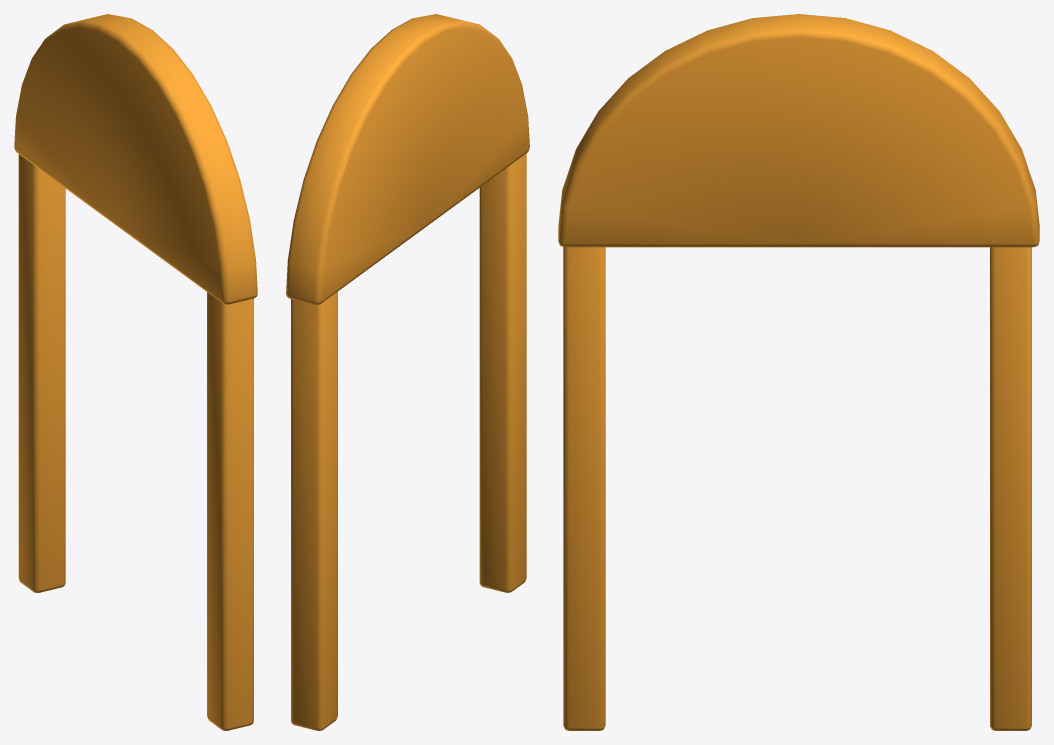
Rendered from FM_H_Doll_BH_Door_Border_001.fbx.
The picture shows the model from 3 angles, left to right: view 1: azimuth 30°, elevation 25°; view 2: azimuth 150°, elevation 25°; view 3: azimuth 270°, elevation 25°; orthographic projection. The views are drawn at different scales.
Visible parts, largest first — view 1: H_Doll_BH_Door_Border_001; view 2: H_Doll_BH_Door_Border_001; view 3: H_Doll_BH_Door_Border_001.
Part boxes in pixels (bbox=[...]): H_Doll_BH_Door_Border_001: bbox=[14, 14, 257, 730]; H_Doll_BH_Door_Border_001: bbox=[286, 14, 529, 730]; H_Doll_BH_Door_Border_001: bbox=[558, 14, 1039, 730].
Bounding box in the file's own units: 0.1928 × 3.21 × 1.99.
